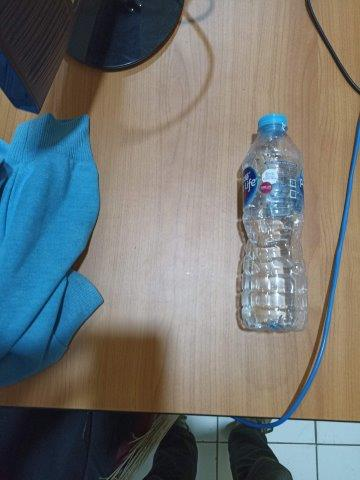botolplastik: (241, 113, 308, 333)
